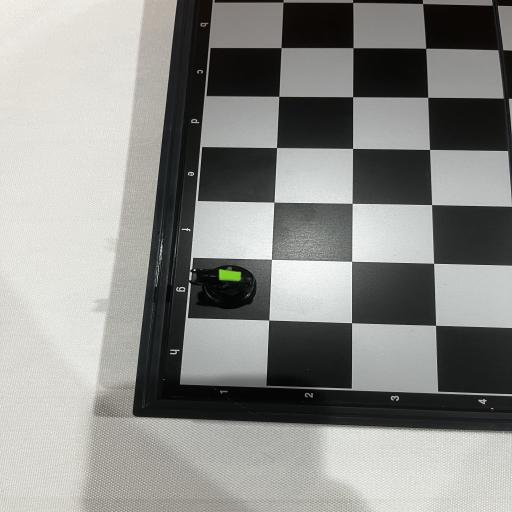Black knight: (189, 264, 257, 308)
